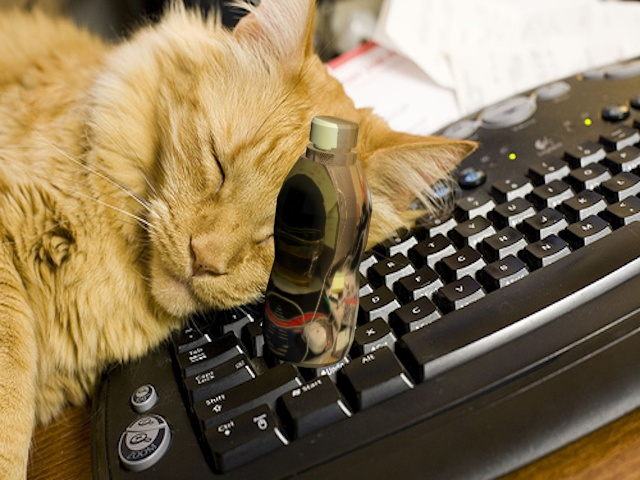bottle: (257, 112, 384, 369)
